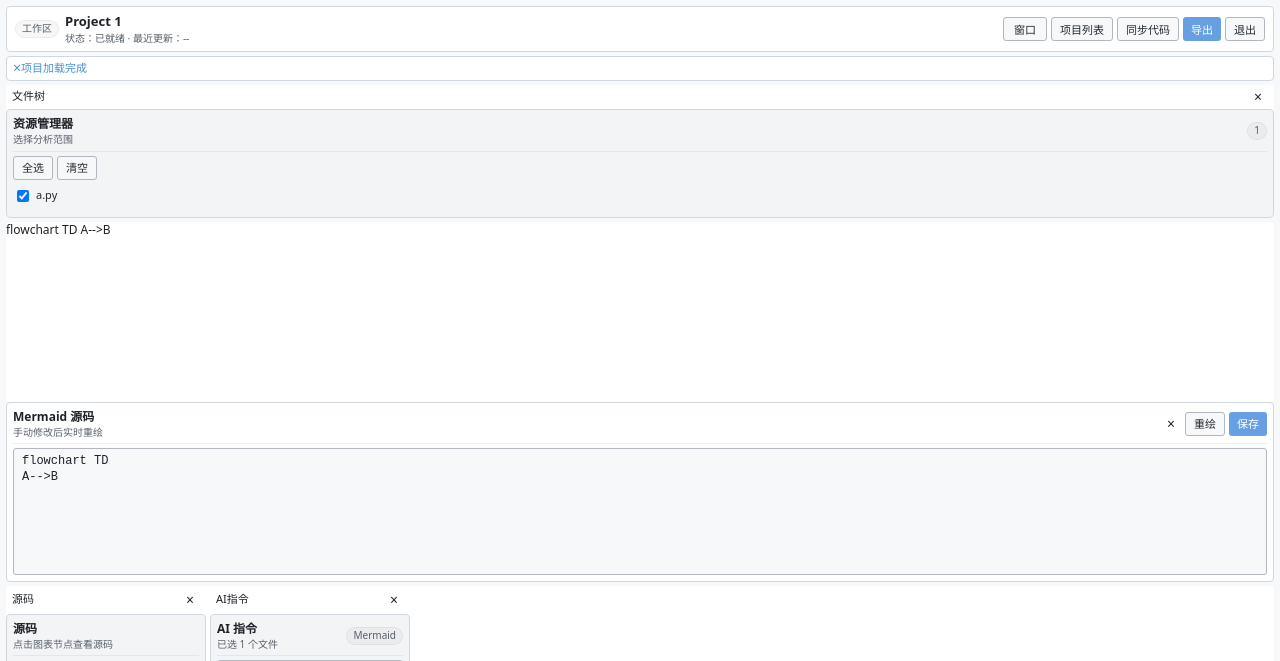
Test: review: visible workflow evidence › C17: workspace sync permits only one pending request
What coordinates should you click on to do the following:
click the button "同步代码"
I would click on:
 (1148, 29)
Its box is [1117,17,1179,41].
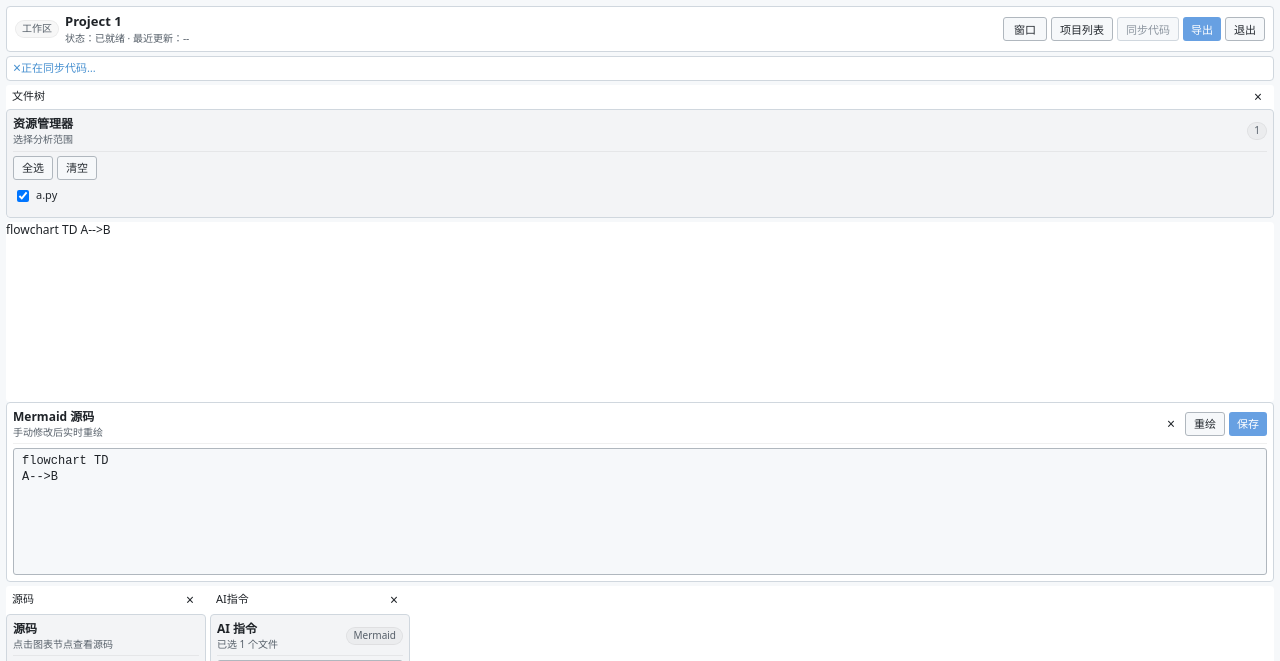
Expected: the button "同步代码" is disabled
What coordinates should you click on to do the following:
click the button "同步代码"
I would click on:
 (1148, 29)
Its box is [1117,17,1179,41].
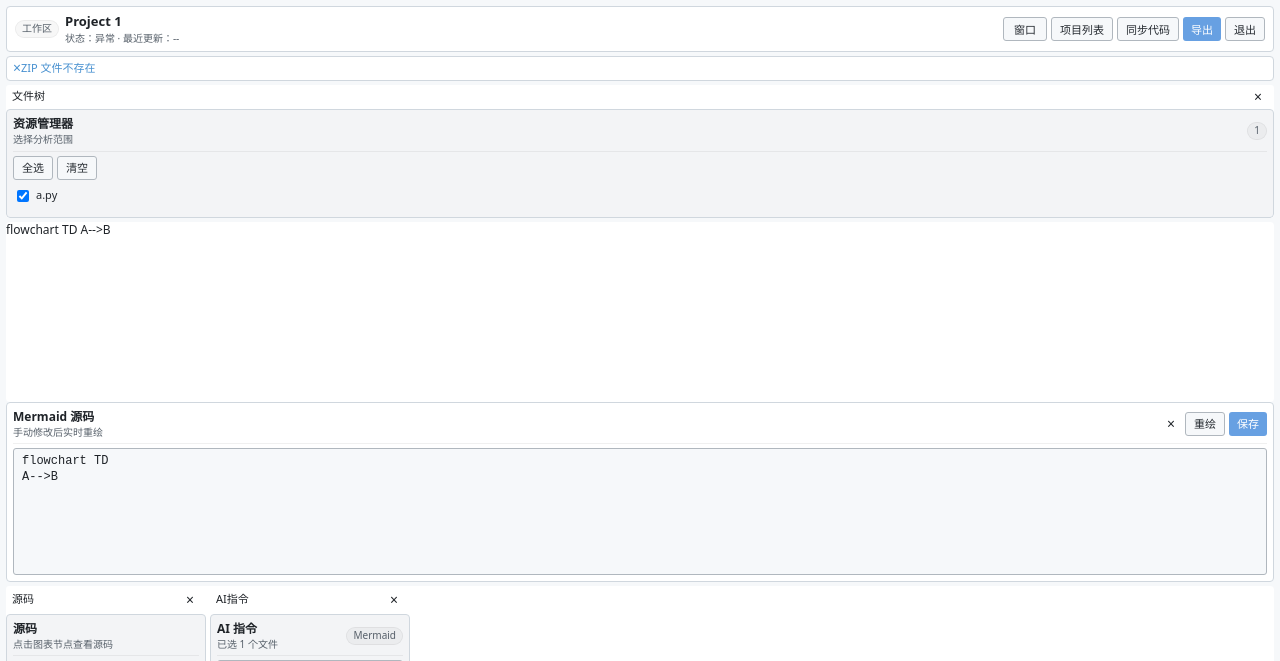
Expected: the button "同步代码" is enabled, [1117,17,1179,41]
